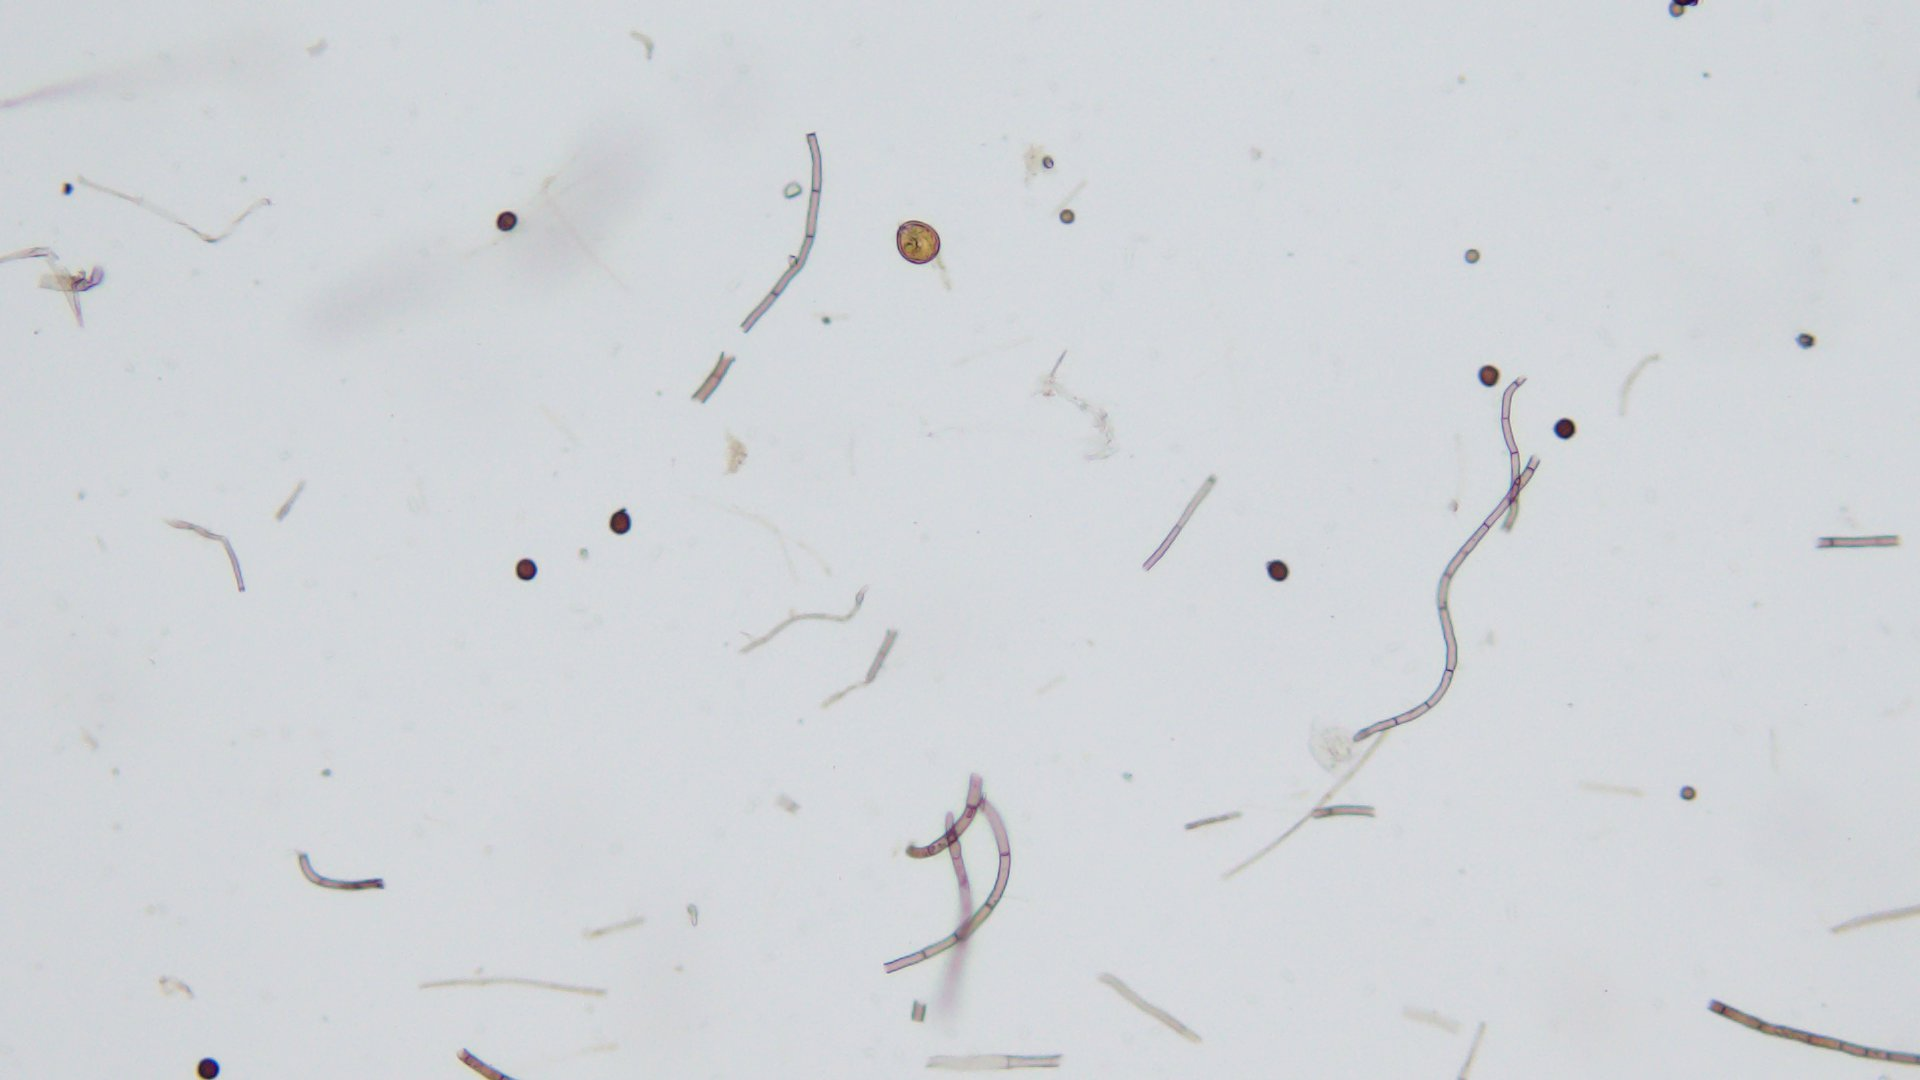shs_spore: (193, 1056, 220, 1079), (608, 512, 632, 535), (1553, 417, 1577, 439), (516, 558, 537, 582), (1265, 560, 1288, 582), (1477, 365, 1501, 386), (495, 211, 517, 232)
xb_spore: (895, 222, 942, 265)
